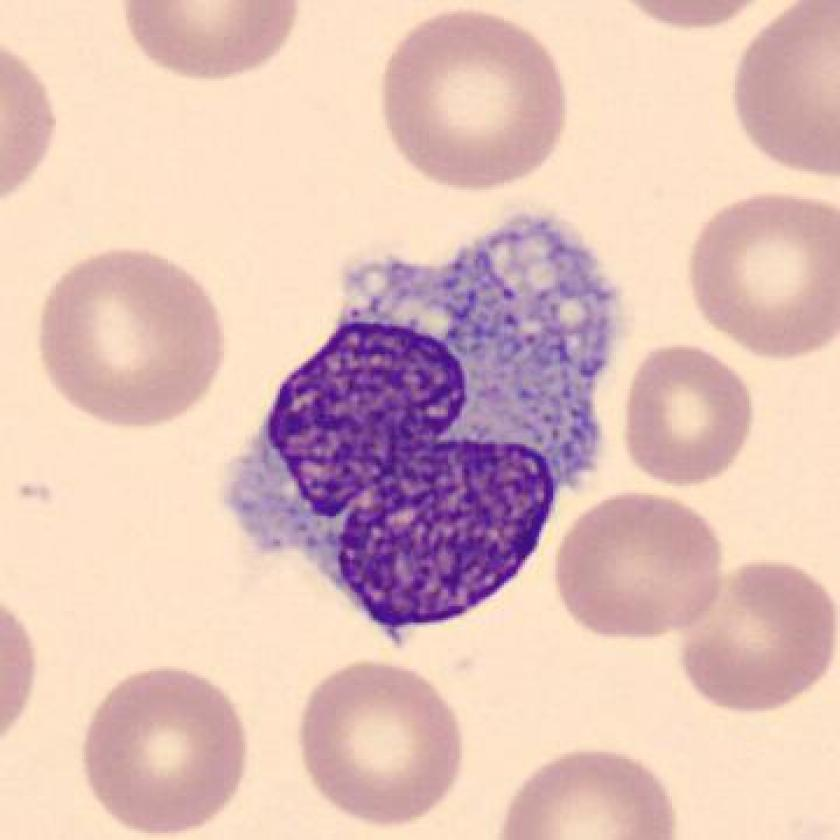monocyte: (206, 200, 643, 651)
